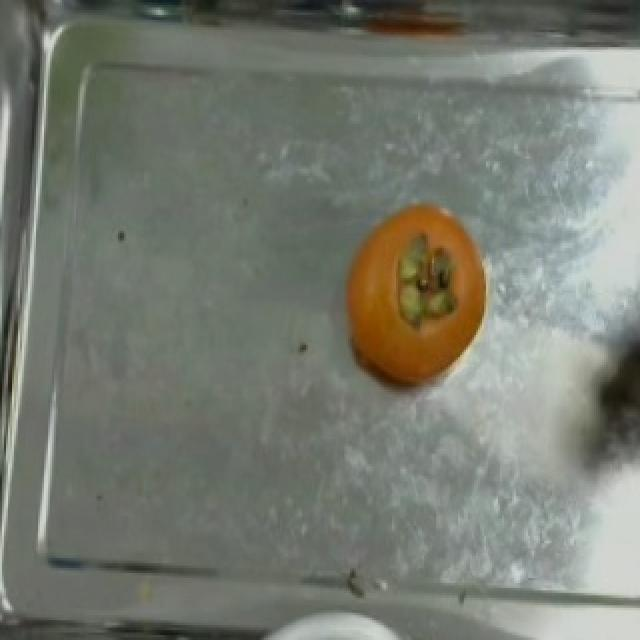Fruit: (332, 186, 504, 399)
